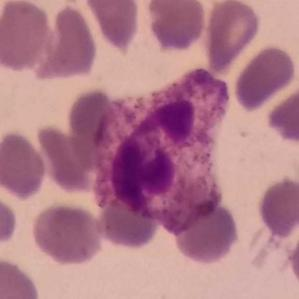Neutrophil: (83, 68, 238, 236)
RBC: (34, 121, 106, 196), (29, 200, 106, 267), (39, 1, 99, 83), (170, 198, 241, 267), (231, 43, 298, 113), (201, 0, 263, 74), (94, 190, 162, 251), (0, 0, 54, 73), (65, 86, 120, 156), (0, 128, 50, 201), (142, 0, 208, 53), (83, 0, 142, 54), (255, 175, 299, 238), (263, 75, 299, 147), (0, 254, 43, 299), (0, 182, 20, 251), (286, 218, 299, 296)
